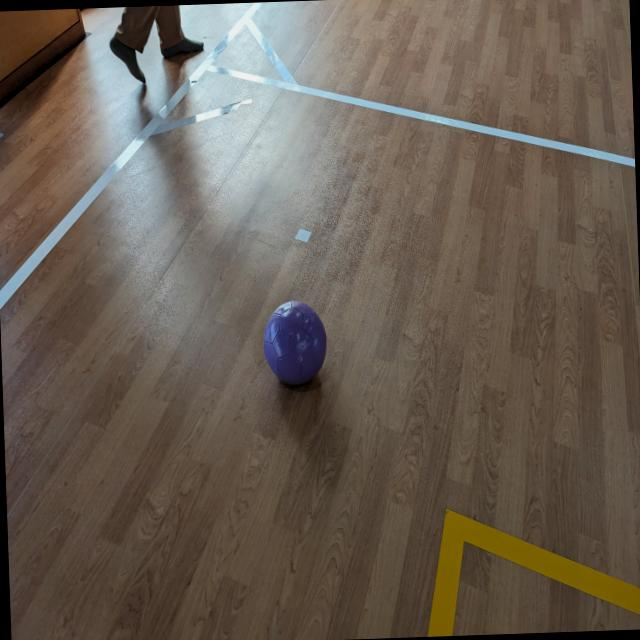purple_ball: (261, 296, 327, 388)
